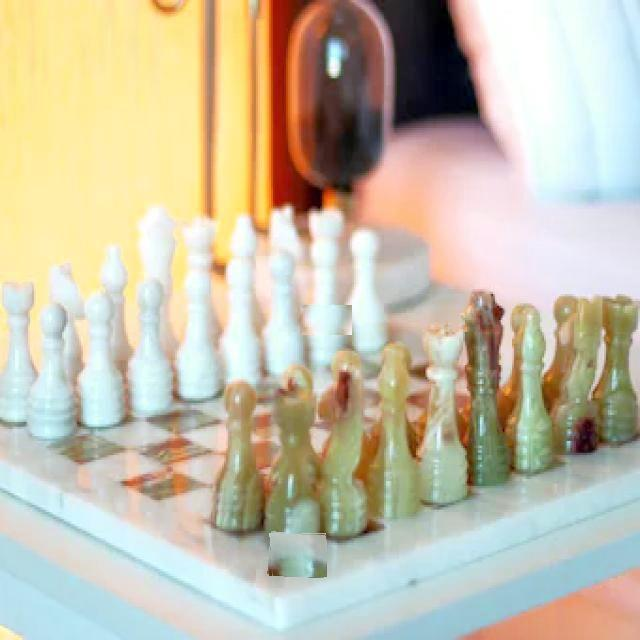chess-table-corners: (268, 532, 327, 577), (300, 305, 352, 335)
